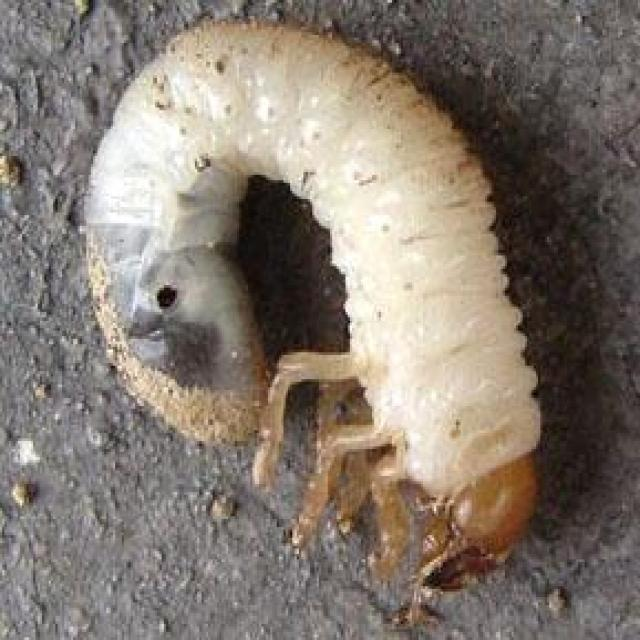Grub-Adult-: (75, 13, 558, 591)
